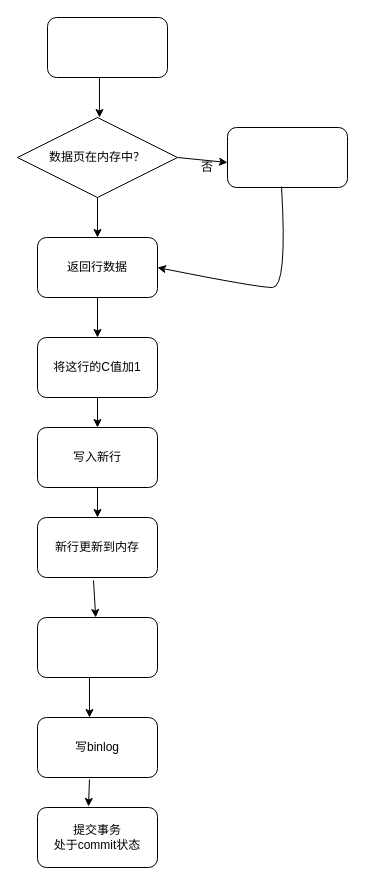
Some shapes in this 365 by 885 pixel diagram are drawn without their labels. Each missing label, with the box of its shape:
写入redolog处于prepare阶段: (36, 616, 158, 678)
取ID=2这一行: (46, 16, 168, 78)
磁盘中读入内存: (226, 126, 348, 188)
